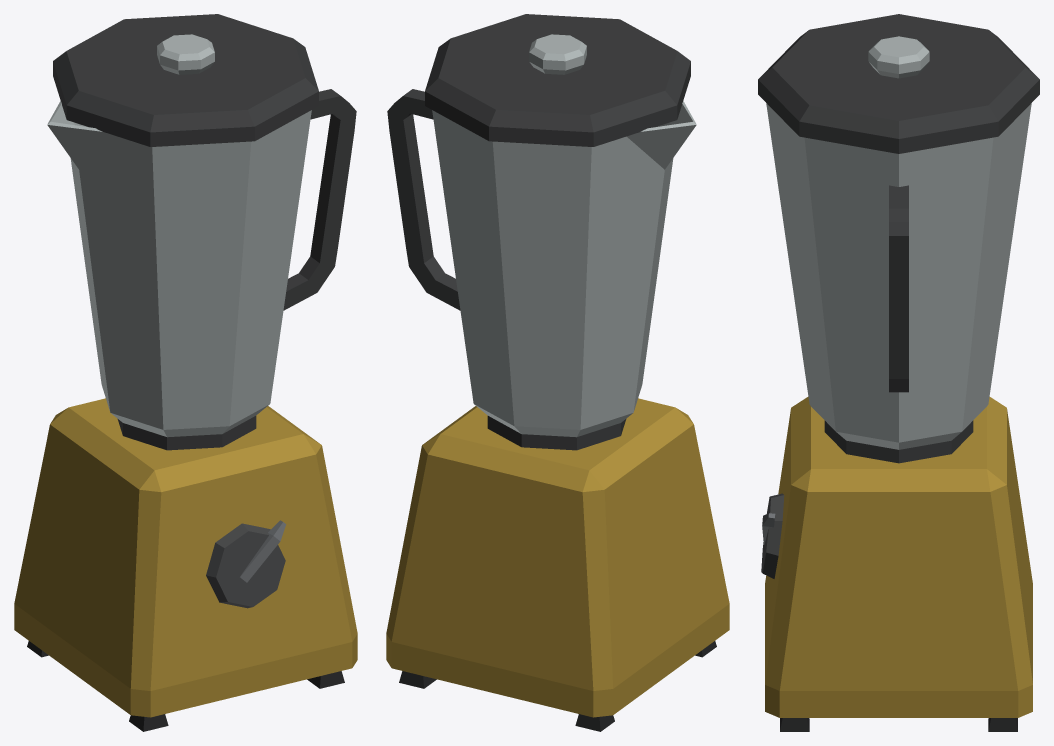
Rendered from SM_Props_Interior_House_Kitchen_Blender.fbx.
3 views of the same model, side by side, from view 1: azimuth 30°, elevation 25°; view 2: azimuth 150°, elevation 25°; view 3: azimuth 270°, elevation 25° (orthographic). The views are drawn at different scales.
Parts seen in each view (by area): view 1: SM_Props_Interior_House_Kitchen_Blender; view 2: SM_Props_Interior_House_Kitchen_Blender; view 3: SM_Props_Interior_House_Kitchen_Blender.
Boxes of the visible parts, bbox=[...] form: SM_Props_Interior_House_Kitchen_Blender: bbox=[14, 14, 357, 731]; SM_Props_Interior_House_Kitchen_Blender: bbox=[386, 14, 729, 731]; SM_Props_Interior_House_Kitchen_Blender: bbox=[758, 14, 1039, 731].
Size of the model in its own units: 24.17 by 47.03 by 18.93.
